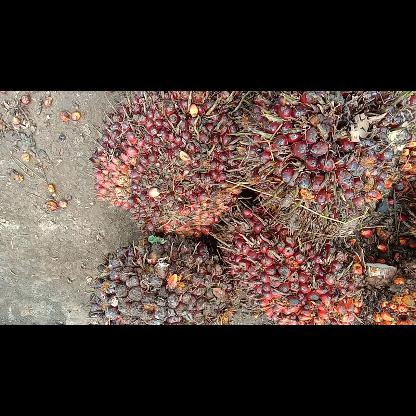Kurang masak: (83, 232, 234, 324)
TBS masak: (239, 91, 415, 237), (86, 92, 256, 240), (215, 200, 373, 324)
